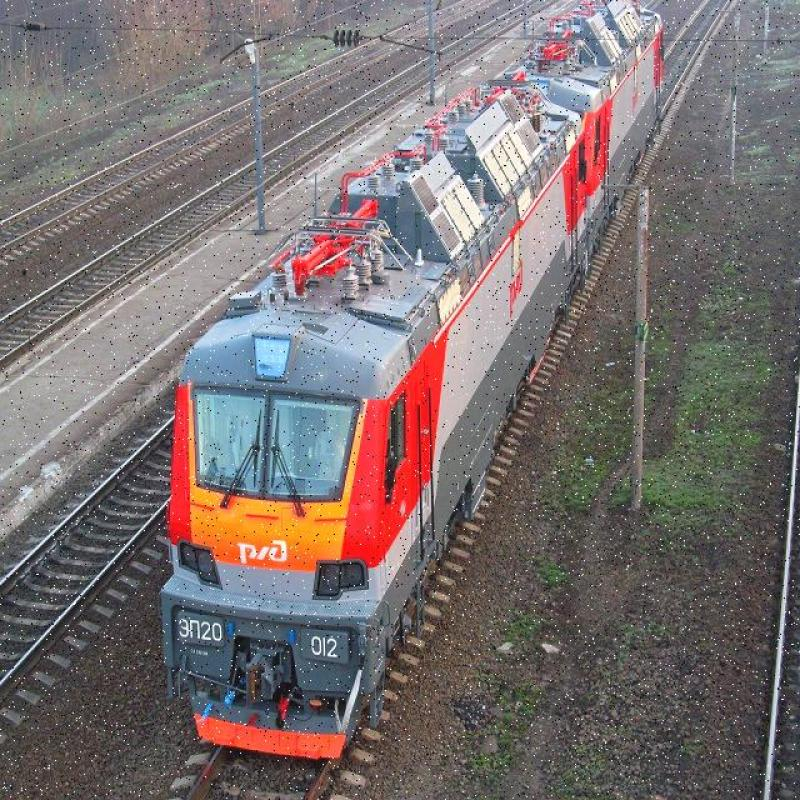train: (156, 18, 661, 713)
